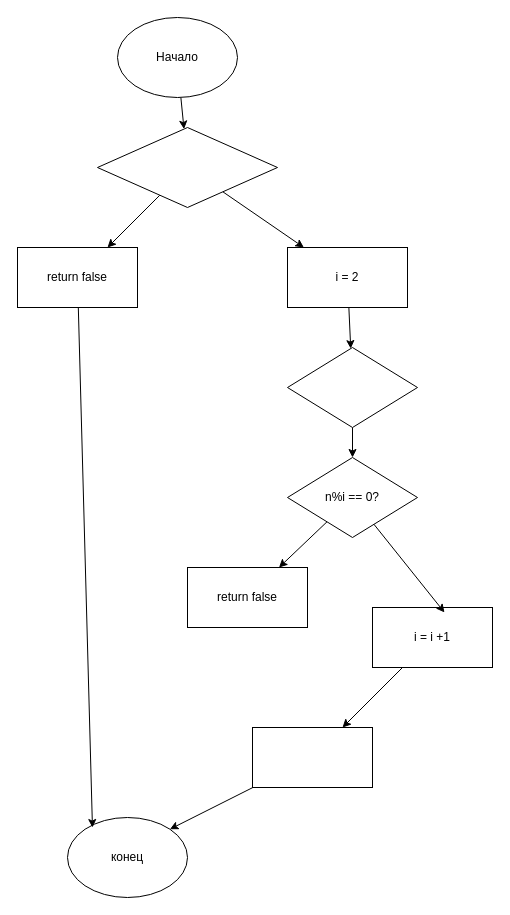
This 510x915 diagram has some shape labels left out. The box of each missing label's shape, as (x1, y1, x2, y2) in pixels:
i * i <= n?: (286, 346, 418, 428)
n <= 1?: (96, 126, 278, 208)
return true: (252, 726, 372, 788)
